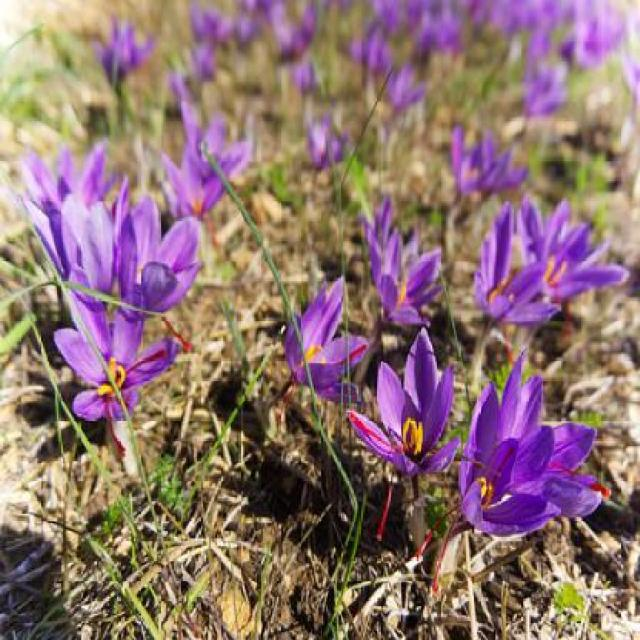Flower: (50, 268, 176, 430), (462, 374, 566, 538), (348, 334, 459, 481), (456, 192, 556, 334), (269, 277, 373, 405)
stigma: (548, 449, 615, 503), (351, 408, 396, 460), (371, 467, 399, 540), (156, 307, 197, 350)
